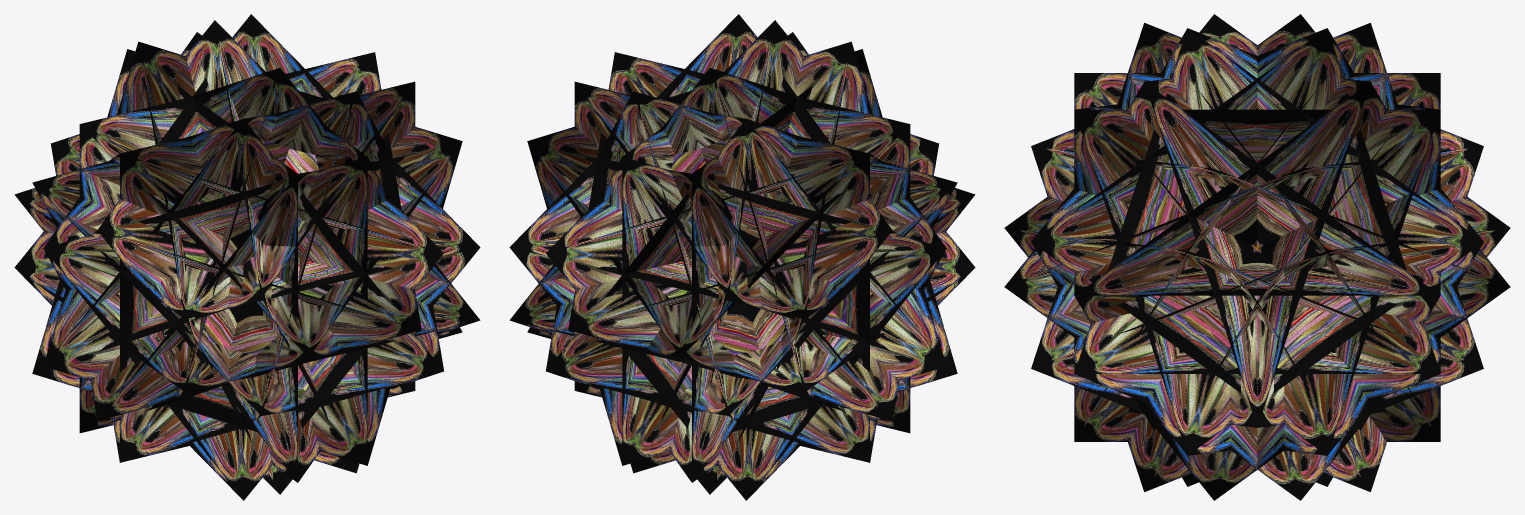
The model's file is GreatRhombidodecahedron2.gltf.
The picture shows the model from 3 angles, left to right: view 1: azimuth 30°, elevation 25°; view 2: azimuth 150°, elevation 25°; view 3: azimuth 270°, elevation 25°; orthographic projection. The views are drawn at different scales.
Parts seen in each view (by area): view 1: 1GreatRhombidodecahedron; view 2: 1GreatRhombidodecahedron; view 3: 1GreatRhombidodecahedron.
Boxes of the visible parts, left/top/right/bottom form: 1GreatRhombidodecahedron: left=14, top=14, right=480, bottom=500; 1GreatRhombidodecahedron: left=509, top=14, right=975, bottom=500; 1GreatRhombidodecahedron: left=1004, top=14, right=1510, bottom=500.
Size of the model in its own units: 1.38 by 1.38 by 1.38.
1 material, 1 textured.
